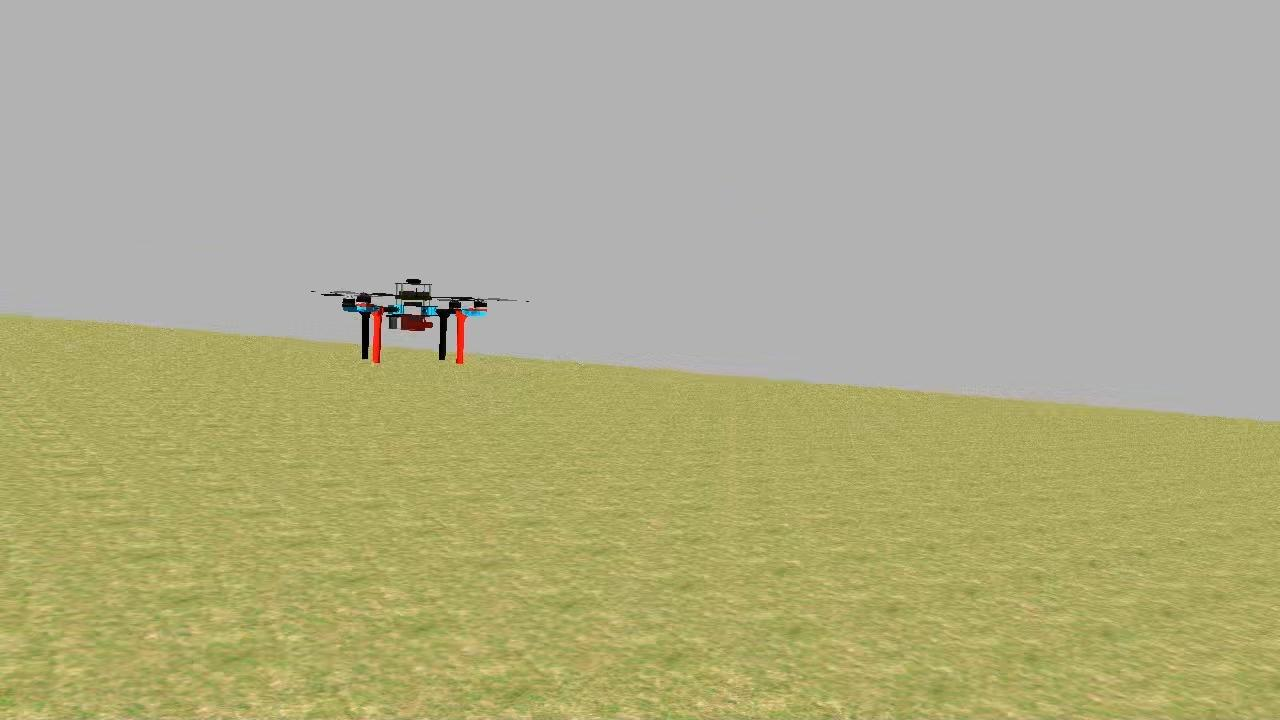UAV: (336, 264, 496, 370)
